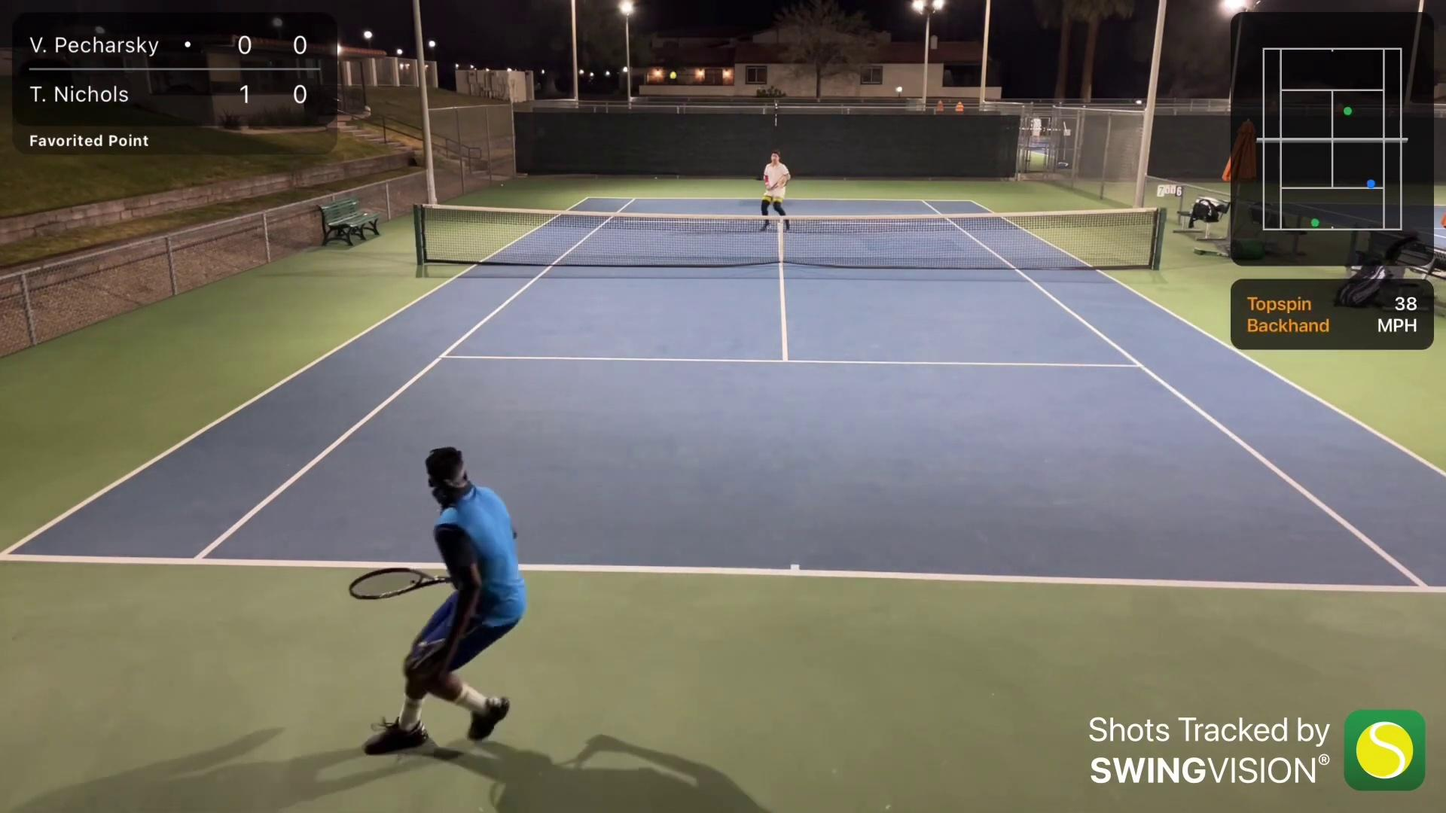ball: (666, 70, 678, 81)
